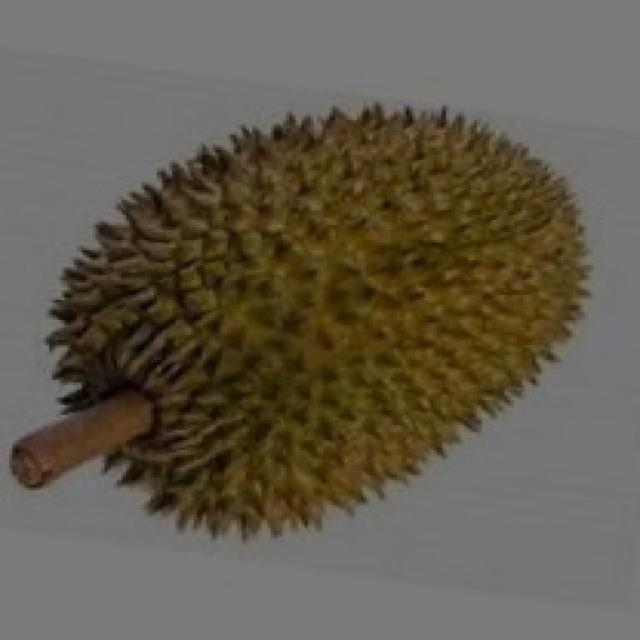fruit: (3, 175, 372, 600)
